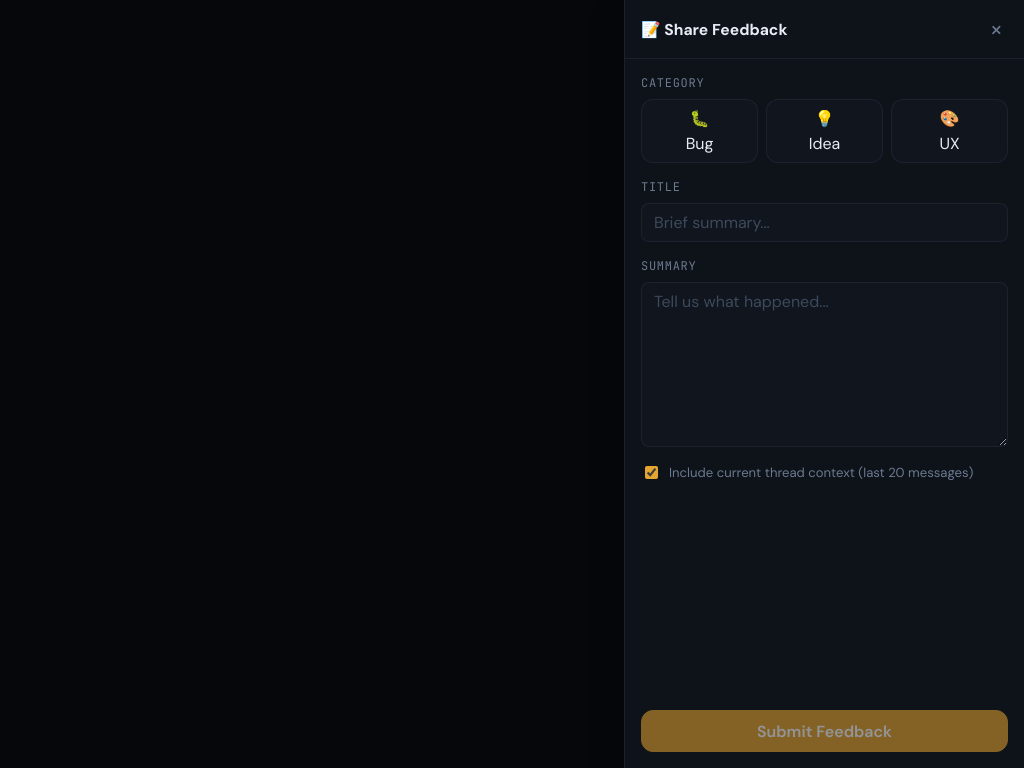
Scenario: FeedbackSlideOver › disables submit until category, title, and summary are filled
The image size is (1024, 768).
Check: the button "Submit Feedback" is disabled, box [641,710,1008,752]
Click the button "💡 Idea". click: x=824, y=131
box: [766,99,883,163]
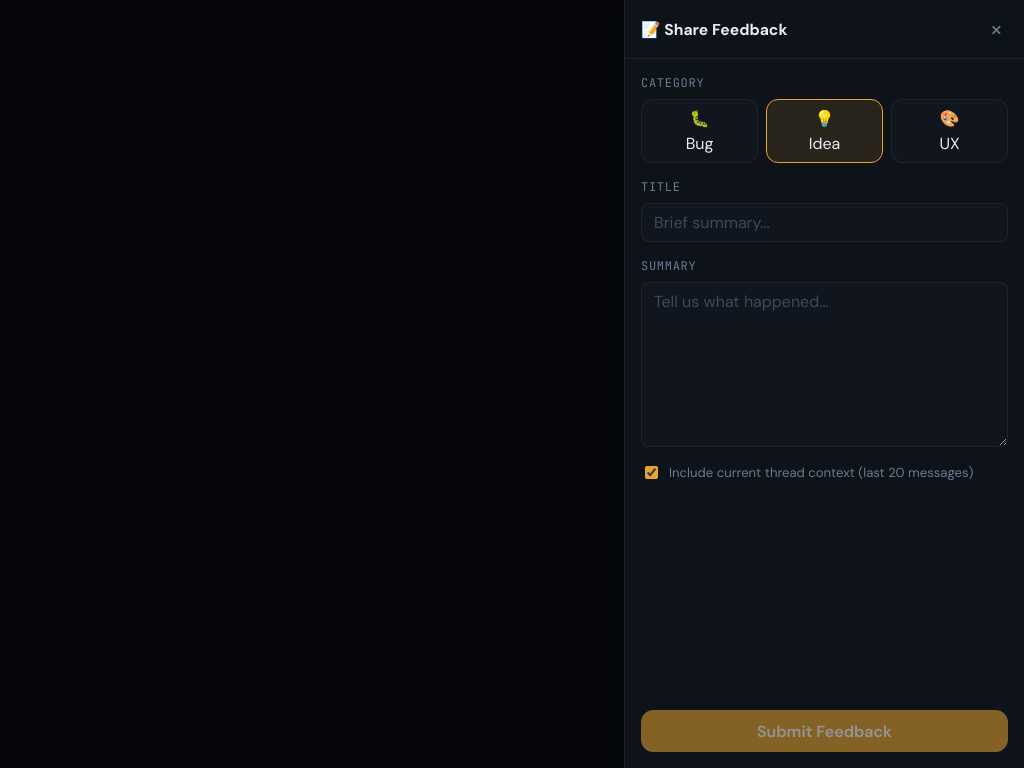
Check: the button "Submit Feedback" is disabled, box [641,710,1008,752]
Type "Short title" into the field with placeholder "Brief summary...". click: x=824, y=222
box: [641,203,1008,242]
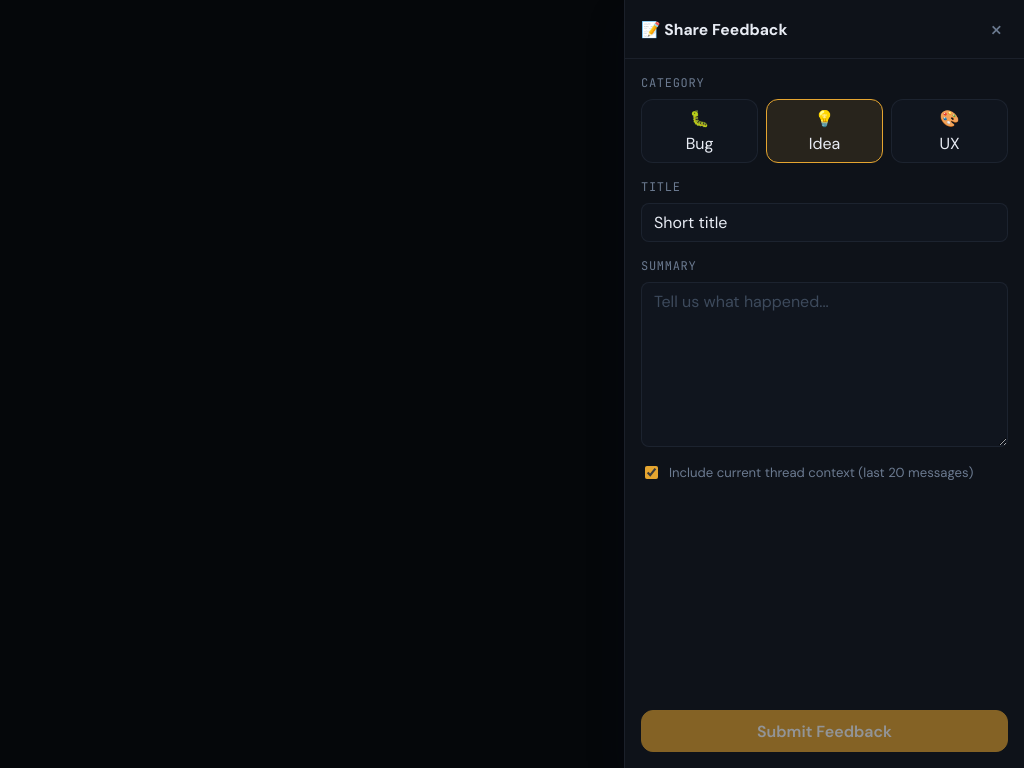
Check: the button "Submit Feedback" is disabled, box [641,710,1008,752]
Type "Detailed summary content" into the text box with placeholder "Tell us what happened...". click: x=824, y=364
box: [641,282,1008,447]
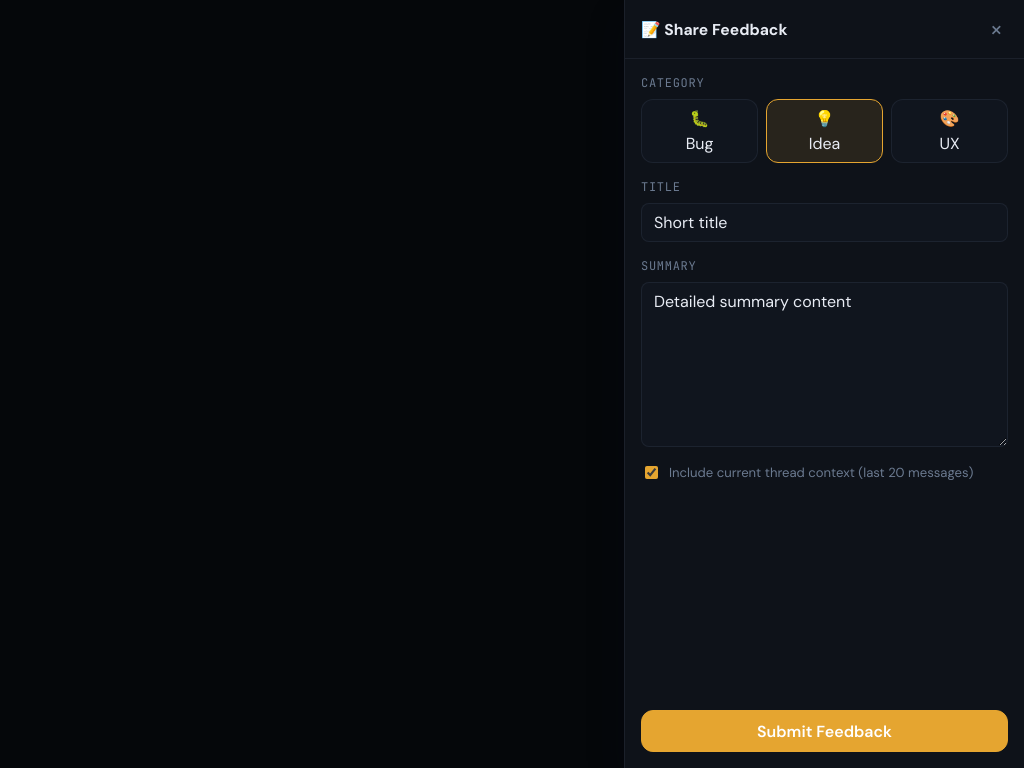
Check: the button "Submit Feedback" is enabled, box [641,710,1008,752]
